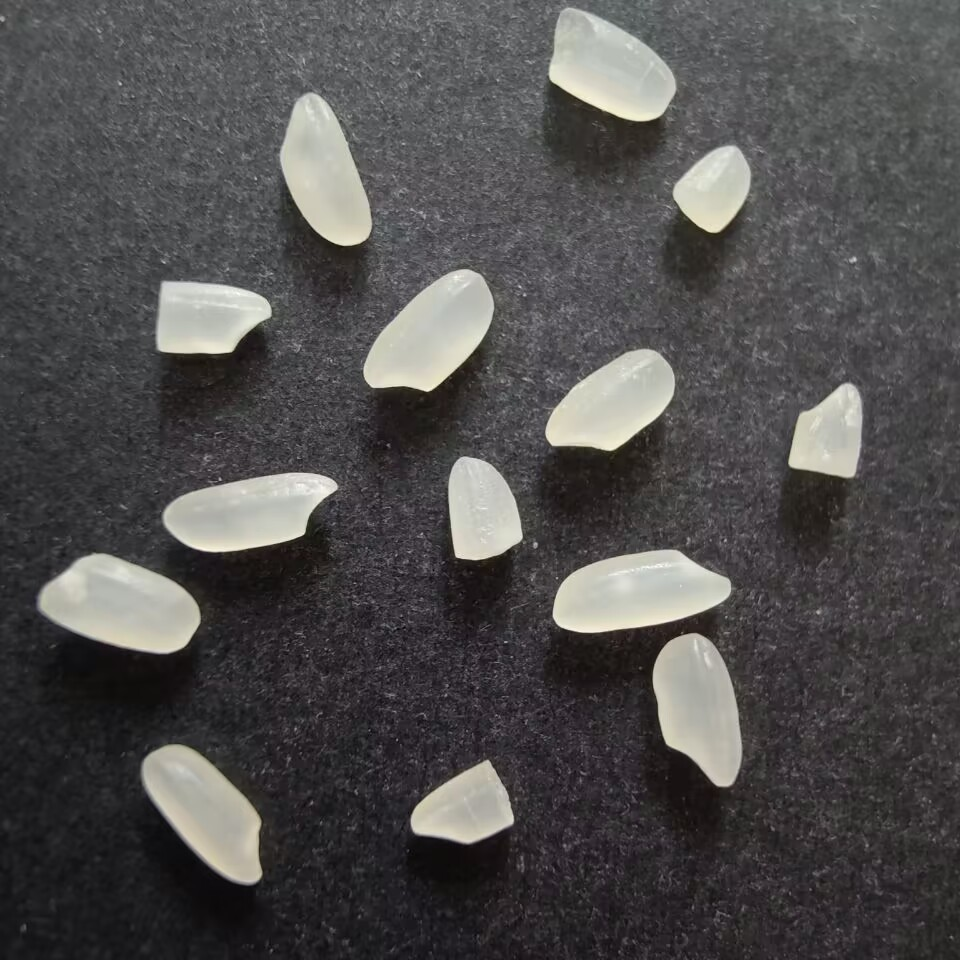broken: (545, 3, 681, 126), (149, 276, 279, 360), (407, 753, 516, 848), (446, 450, 527, 568), (783, 375, 870, 480), (667, 141, 758, 239)
rice: (137, 743, 264, 890), (31, 549, 201, 658), (359, 265, 499, 397), (546, 545, 737, 635), (274, 88, 375, 250), (650, 630, 747, 793), (158, 468, 338, 554), (541, 347, 678, 456)
